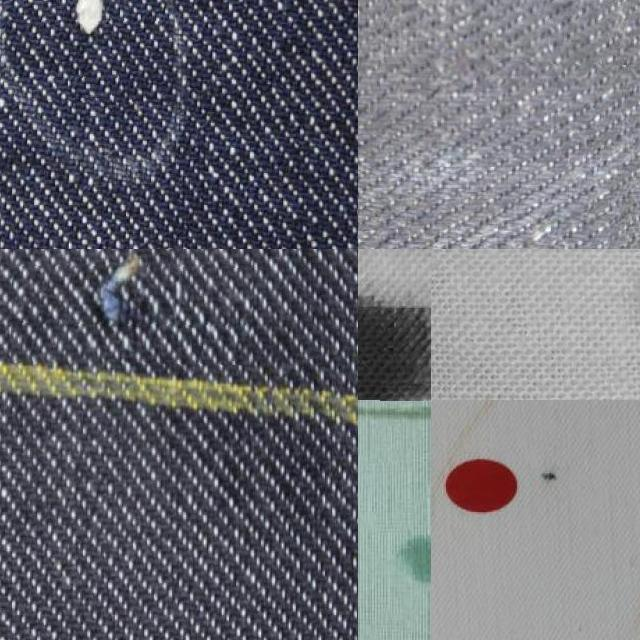Hole: (358, 249, 431, 401), (519, 436, 609, 544), (358, 400, 431, 501), (381, 523, 431, 640)
Thread_other: (11, 249, 253, 364), (3, 0, 163, 102), (385, 0, 640, 64)
